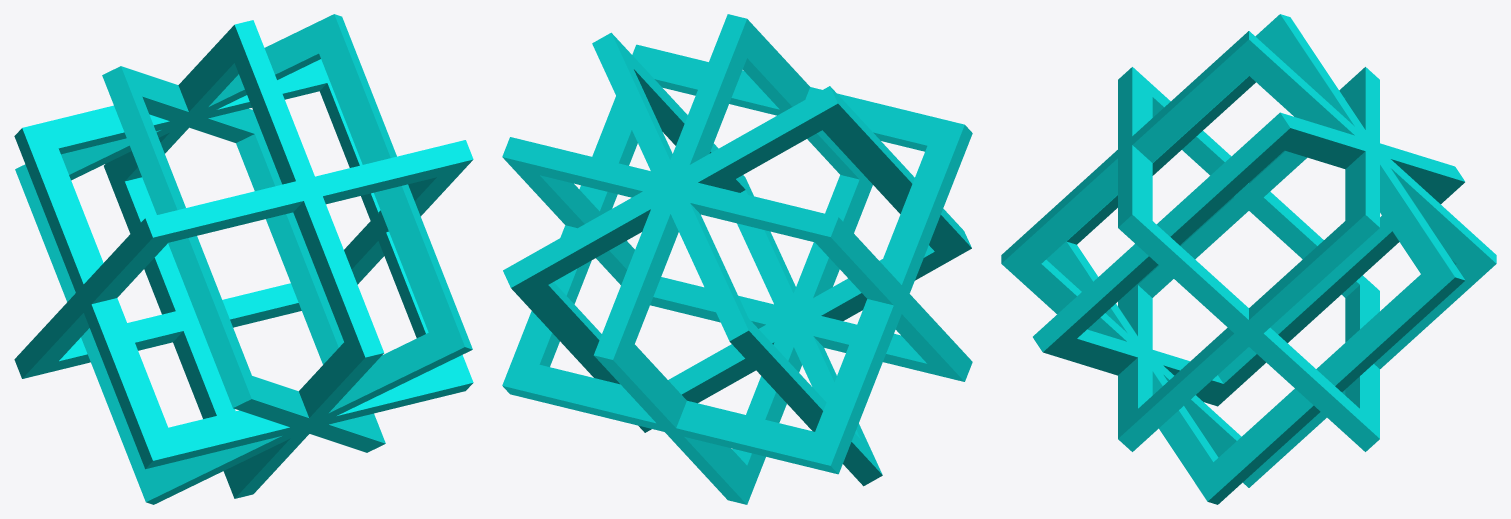
Rendered from complex ball.fbx.
3 views of the same model, side by side, from view 1: azimuth 30°, elevation 25°; view 2: azimuth 150°, elevation 25°; view 3: azimuth 270°, elevation 25° (orthographic). The views are drawn at different scales.
Visible parts, largest first — view 1: Cube.001; view 2: Cube.001; view 3: Cube.001.
Boxes of the visible parts, <box> form: Cube.001: <box>14,14,473,504</box>; Cube.001: <box>502,14,972,504</box>; Cube.001: <box>1001,14,1496,504</box>.
Size of the model in its own units: 134 by 190 by 190.
